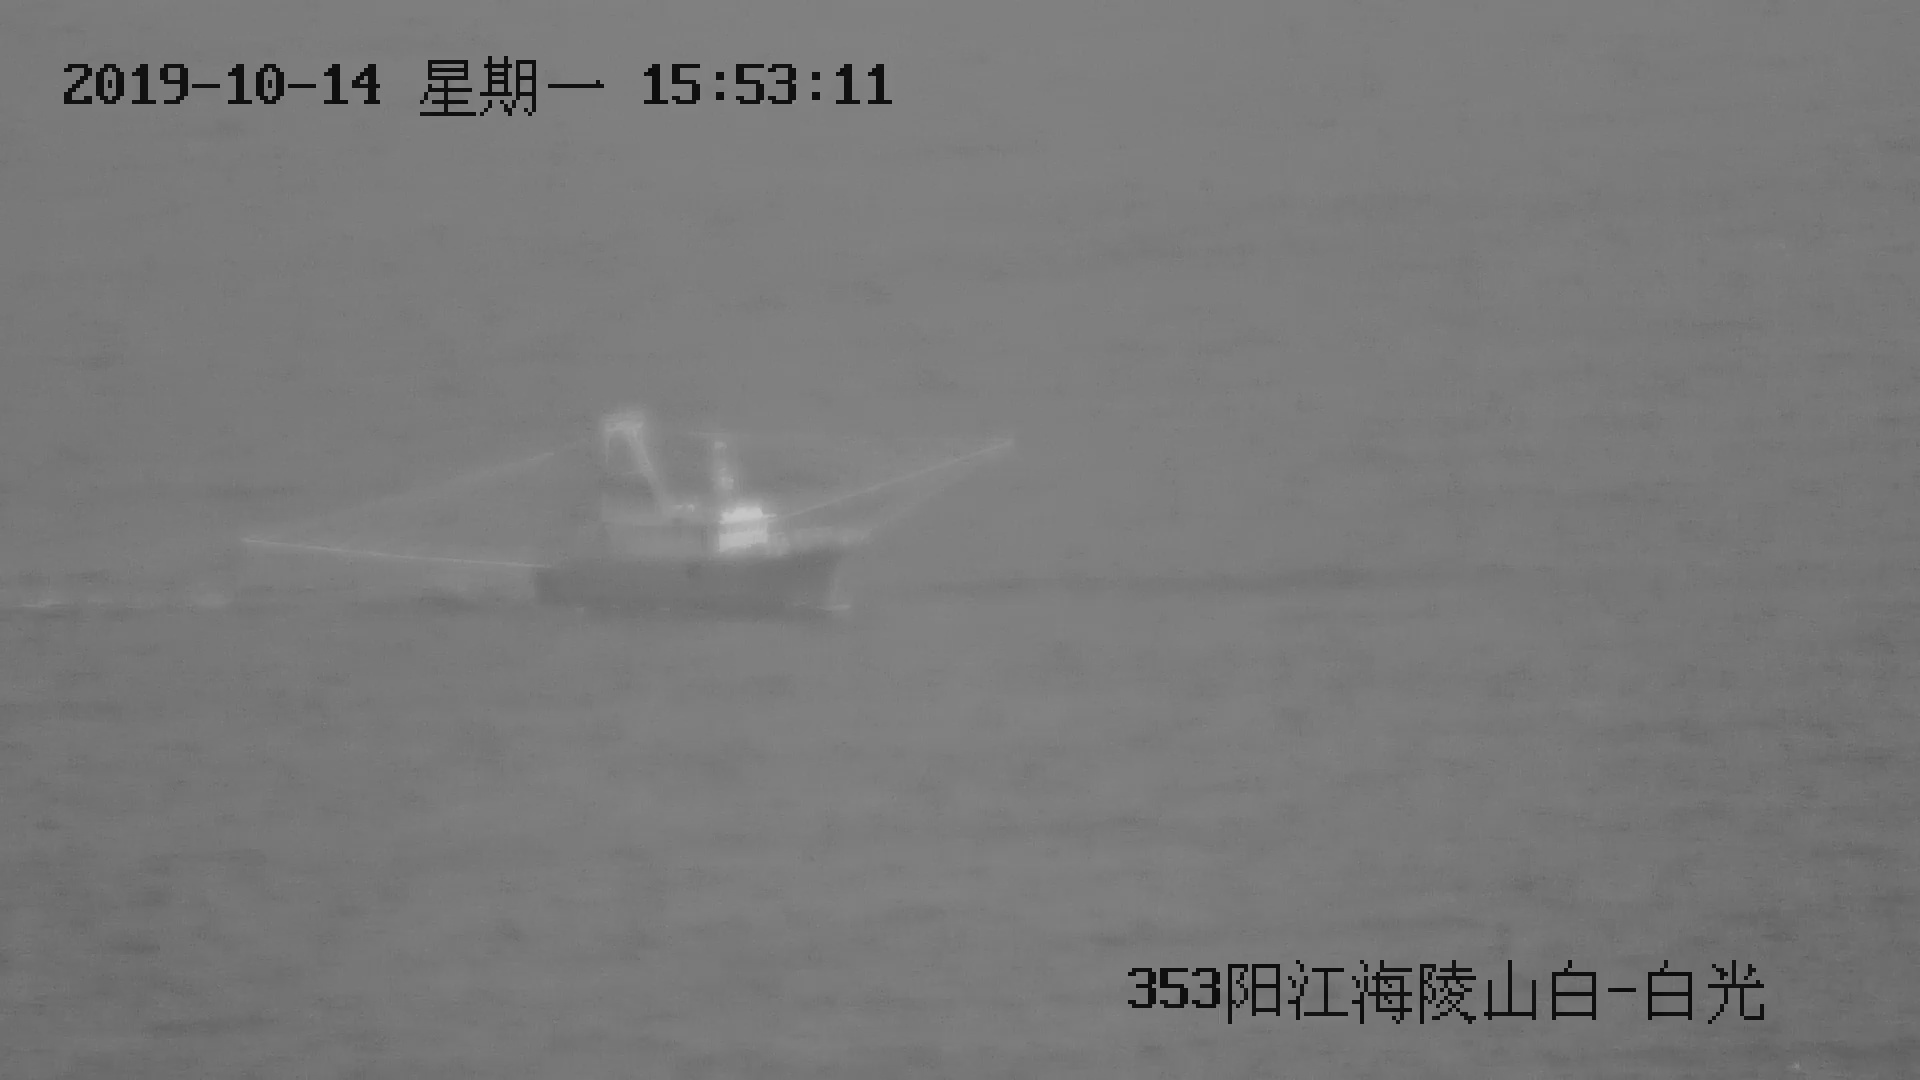ship: (513, 417, 855, 615)
